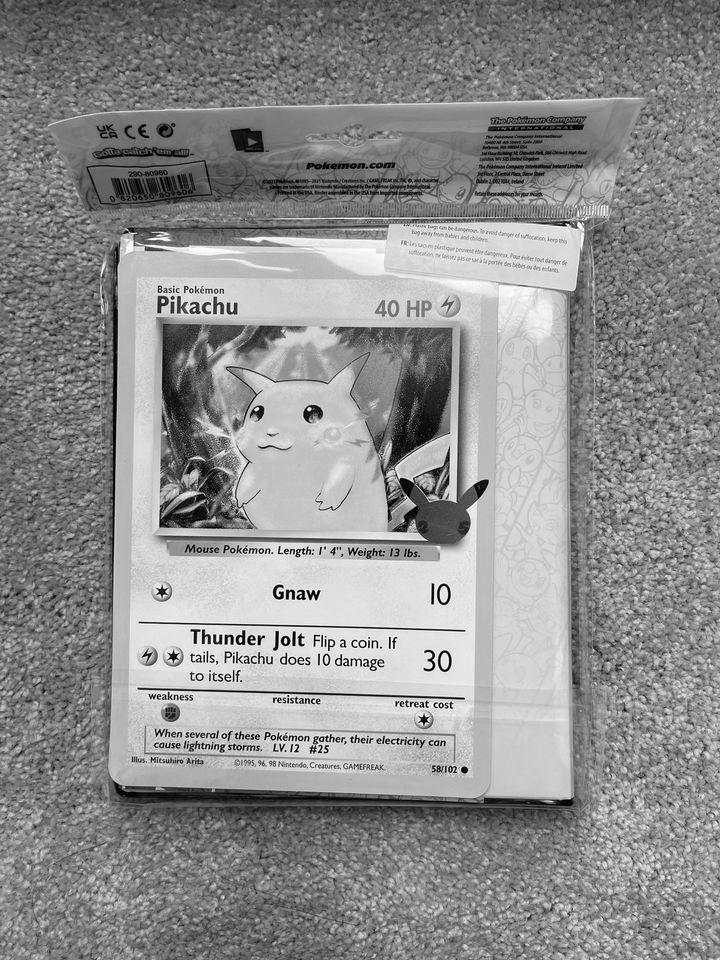card: (108, 250, 500, 798)
